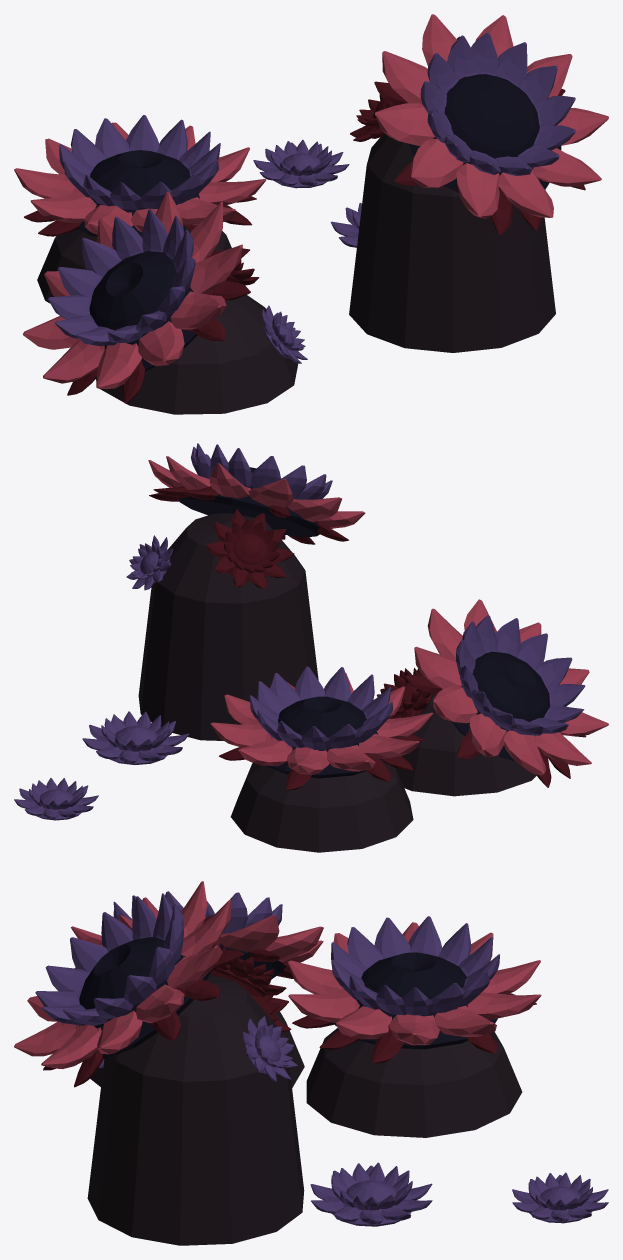
File: AlienFlower_B.FBX
The picture shows the model from 3 angles, top to bottom: view 1: azimuth 30°, elevation 25°; view 2: azimuth 150°, elevation 25°; view 3: azimuth 270°, elevation 25°; orthographic projection. The views are drawn at different scales.
Visible parts, largest first — view 1: AlienCoral_FlowerB; view 2: AlienCoral_FlowerB; view 3: AlienCoral_FlowerB.
Boxes of the visible parts, <box> form: AlienCoral_FlowerB: <box>14,14,608,414</box>; AlienCoral_FlowerB: <box>14,443,608,852</box>; AlienCoral_FlowerB: <box>14,881,608,1245</box>.
Size of the model in its own units: 237 by 123 by 223.
